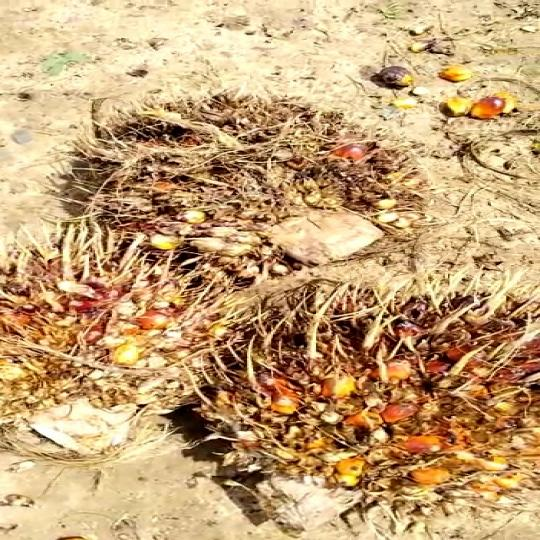terlalu masak: (181, 277, 540, 530), (41, 91, 437, 292), (0, 233, 232, 466)
